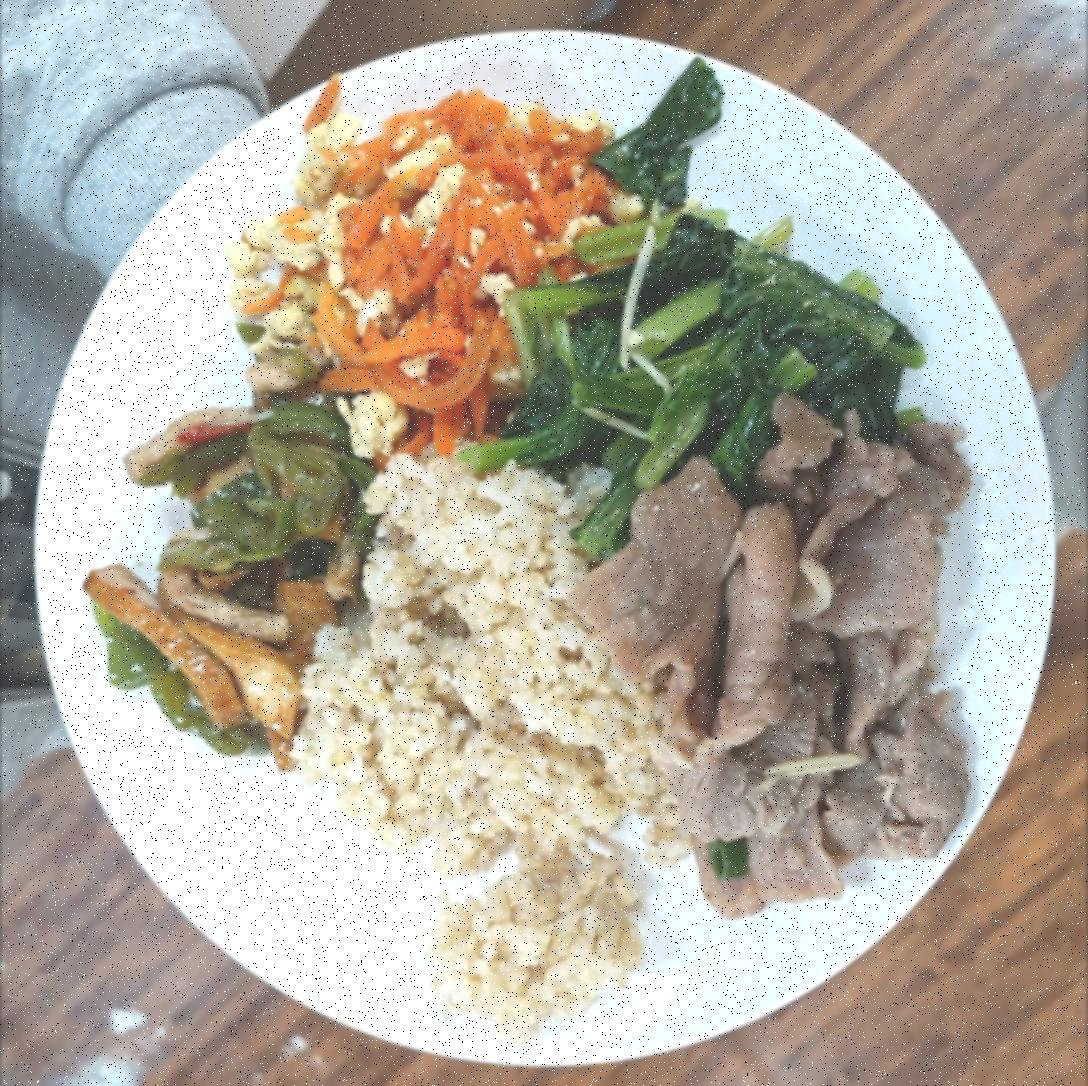brown rice: (292, 481, 652, 994)
garlic white meat: (664, 416, 969, 926)
plate: (46, 9, 1062, 1072)
side dish: (519, 186, 899, 482), (104, 346, 357, 736), (264, 104, 583, 405)
